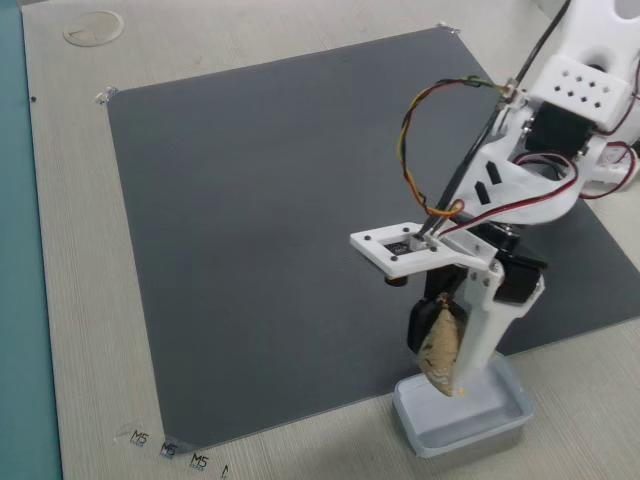gripper: (376, 224, 536, 376)
